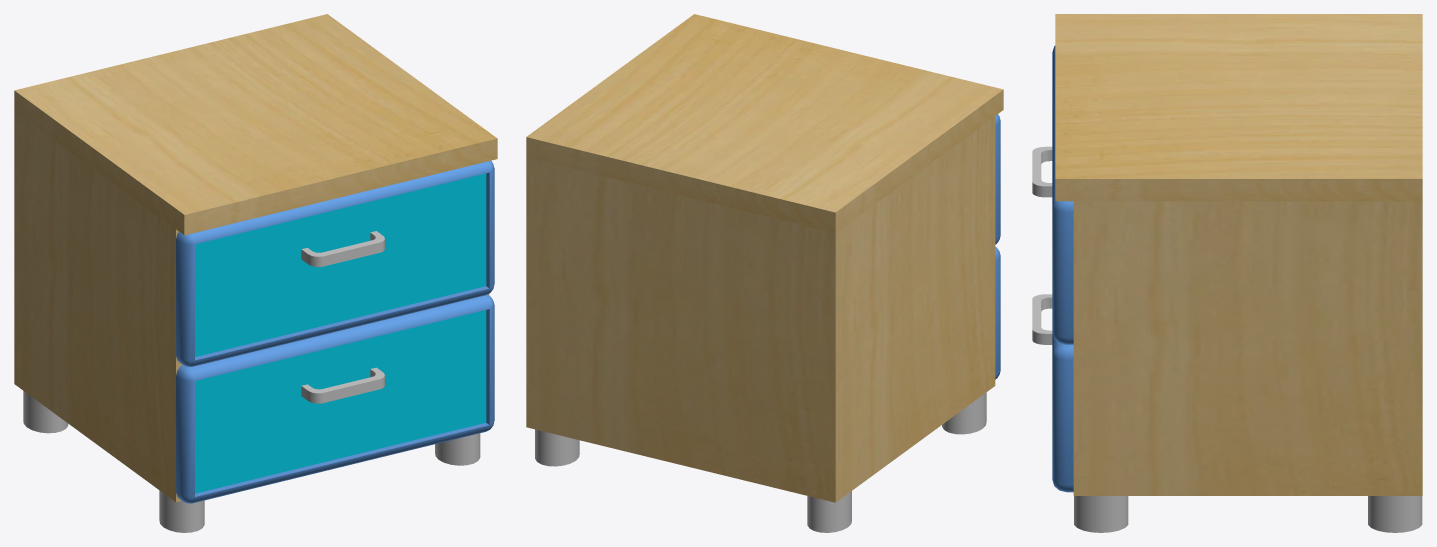
File: sh-lp-comodino-azzurro.glb
The picture shows the model from 3 angles, left to right: view 1: azimuth 30°, elevation 25°; view 2: azimuth 150°, elevation 25°; view 3: azimuth 270°, elevation 25°; orthographic projection. The views are drawn at different scales.
Visible parts, largest first — view 1: Box35_1, Box36_2, ChamferBox36_3, Cylinder13_9, Line63_4; view 2: Box35_1, Cylinder13_9, ChamferBox36_3; view 3: Box35_1, ChamferBox36_3, Cylinder13_9, Line63_4.
Boxes of the visible parts, x1,y1,x2,y2 form: Box35_1: (14,14,497,502); Box36_2: (195,173,486,493); ChamferBox36_3: (176,160,494,503); Cylinder13_9: (23,391,480,532); Line63_4: (301,231,384,403); Box35_1: (526,14,1003,502); Cylinder13_9: (535,392,986,532); ChamferBox36_3: (995,114,1000,379); Box35_1: (1055,14,1422,495); ChamferBox36_3: (1052,45,1073,492); Cylinder13_9: (1074,496,1422,532); Line63_4: (1032,146,1052,344).
Bounding box in the file's own units: 1 × 1 × 1.
Materials: 4 (1 with a texture image).
